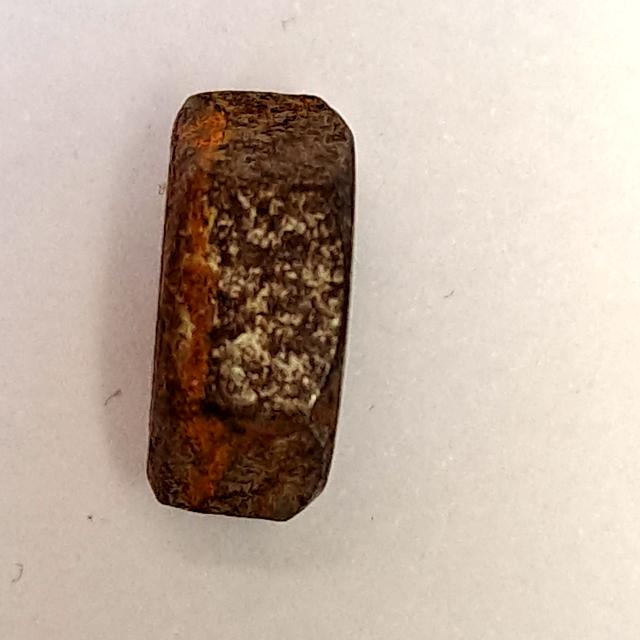Side_Rust: (136, 75, 371, 535)
